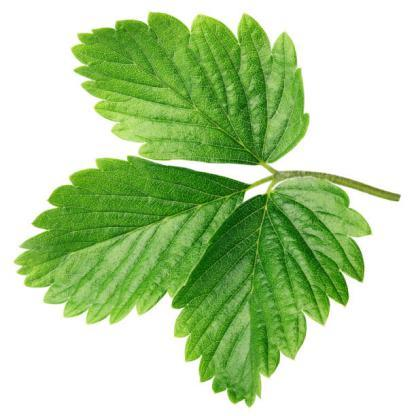Strawberry leaf: (168, 184, 374, 410), (10, 158, 258, 329), (65, 11, 316, 169)
